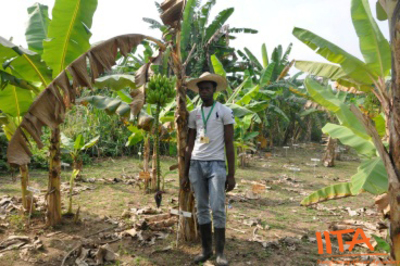bananaHand: (144, 73, 180, 107)
